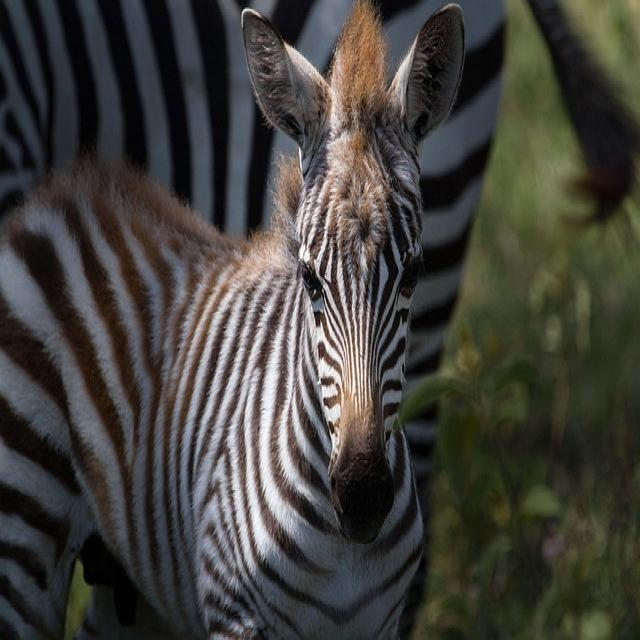Herbivorous: (0, 0, 465, 640)
